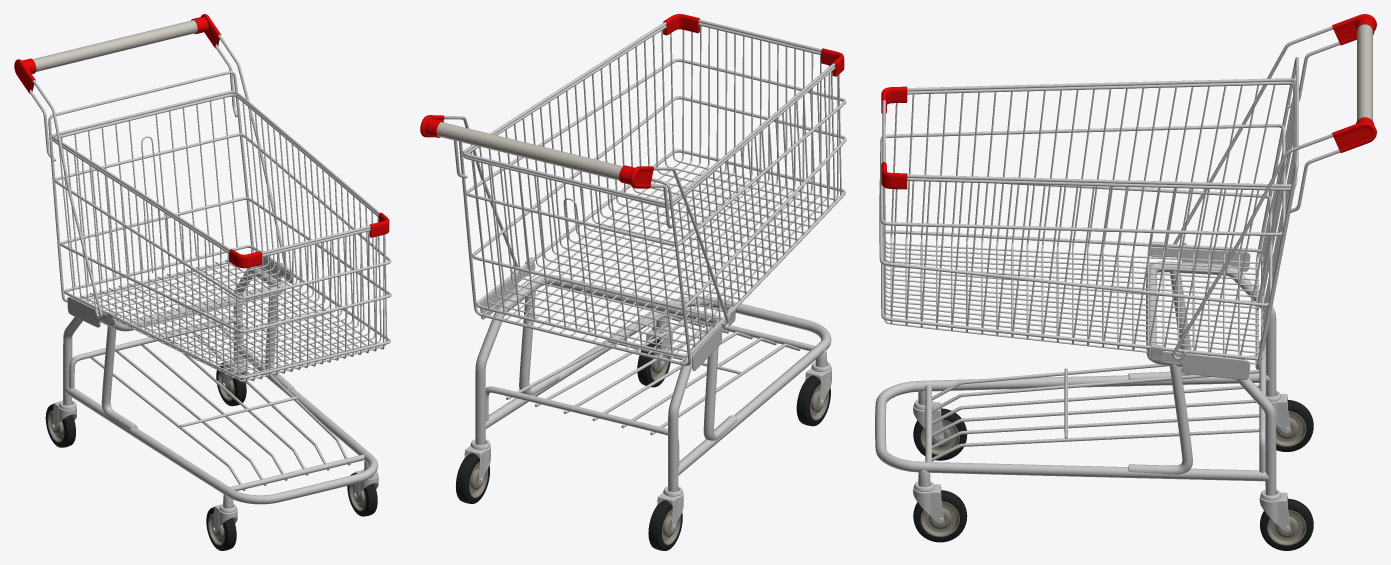
File: uho_suck1.fbx
The picture shows the model from 3 angles, left to right: view 1: azimuth 30°, elevation 25°; view 2: azimuth 150°, elevation 25°; view 3: azimuth 270°, elevation 25°; orthographic projection. The views are drawn at different scales.
Visible parts, largest first — view 1: shopping_cart_Main, shopping_cart_wheel_LU, shopping_cart_wheel_LD, shopping_cart_wheel_RU, shopping_cart_wheel_RD; view 2: shopping_cart_Main, shopping_cart_wheel_LD, shopping_cart_wheel_LU, shopping_cart_wheel_RD, shopping_cart_wheel_RU, shopping_cart_metal_RD, shopping_cart_metal_LD, shopping_cart_metal_LU; view 3: shopping_cart_Main, shopping_cart_wheel_RU, shopping_cart_wheel_RD, shopping_cart_wheel_LD, shopping_cart_wheel_LU, shopping_cart_metal_RD, shopping_cart_metal_RU.
Part boxes in pixels (x1,y1,x2,y2): shopping_cart_Main: (14,14,391,508); shopping_cart_wheel_LU: (206,507,236,550); shopping_cart_wheel_LD: (45,403,75,447); shopping_cart_wheel_RU: (347,472,377,516); shopping_cart_wheel_RD: (216,362,246,406); shopping_cart_Main: (420,14,846,491); shopping_cart_wheel_LD: (648,500,682,550); shopping_cart_wheel_LU: (796,375,830,426); shopping_cart_wheel_RD: (455,453,489,503); shopping_cart_wheel_RU: (637,337,670,387); shopping_cart_metal_RD: (464,439,490,484); shopping_cart_metal_LD: (657,486,683,531); shopping_cart_metal_LU: (805,362,831,406); shopping_cart_Main: (875,14,1376,495); shopping_cart_wheel_RU: (913,490,967,542); shopping_cart_wheel_RD: (1260,498,1313,550); shopping_cart_wheel_LD: (1276,400,1313,451); shopping_cart_wheel_LU: (913,408,967,460); shopping_cart_metal_RD: (1259,489,1290,532); shopping_cart_metal_RU: (913,481,944,524).
Bounding box in the file's own units: 56.95 × 103 × 108.
Materials: 1 (1 with a texture image).
